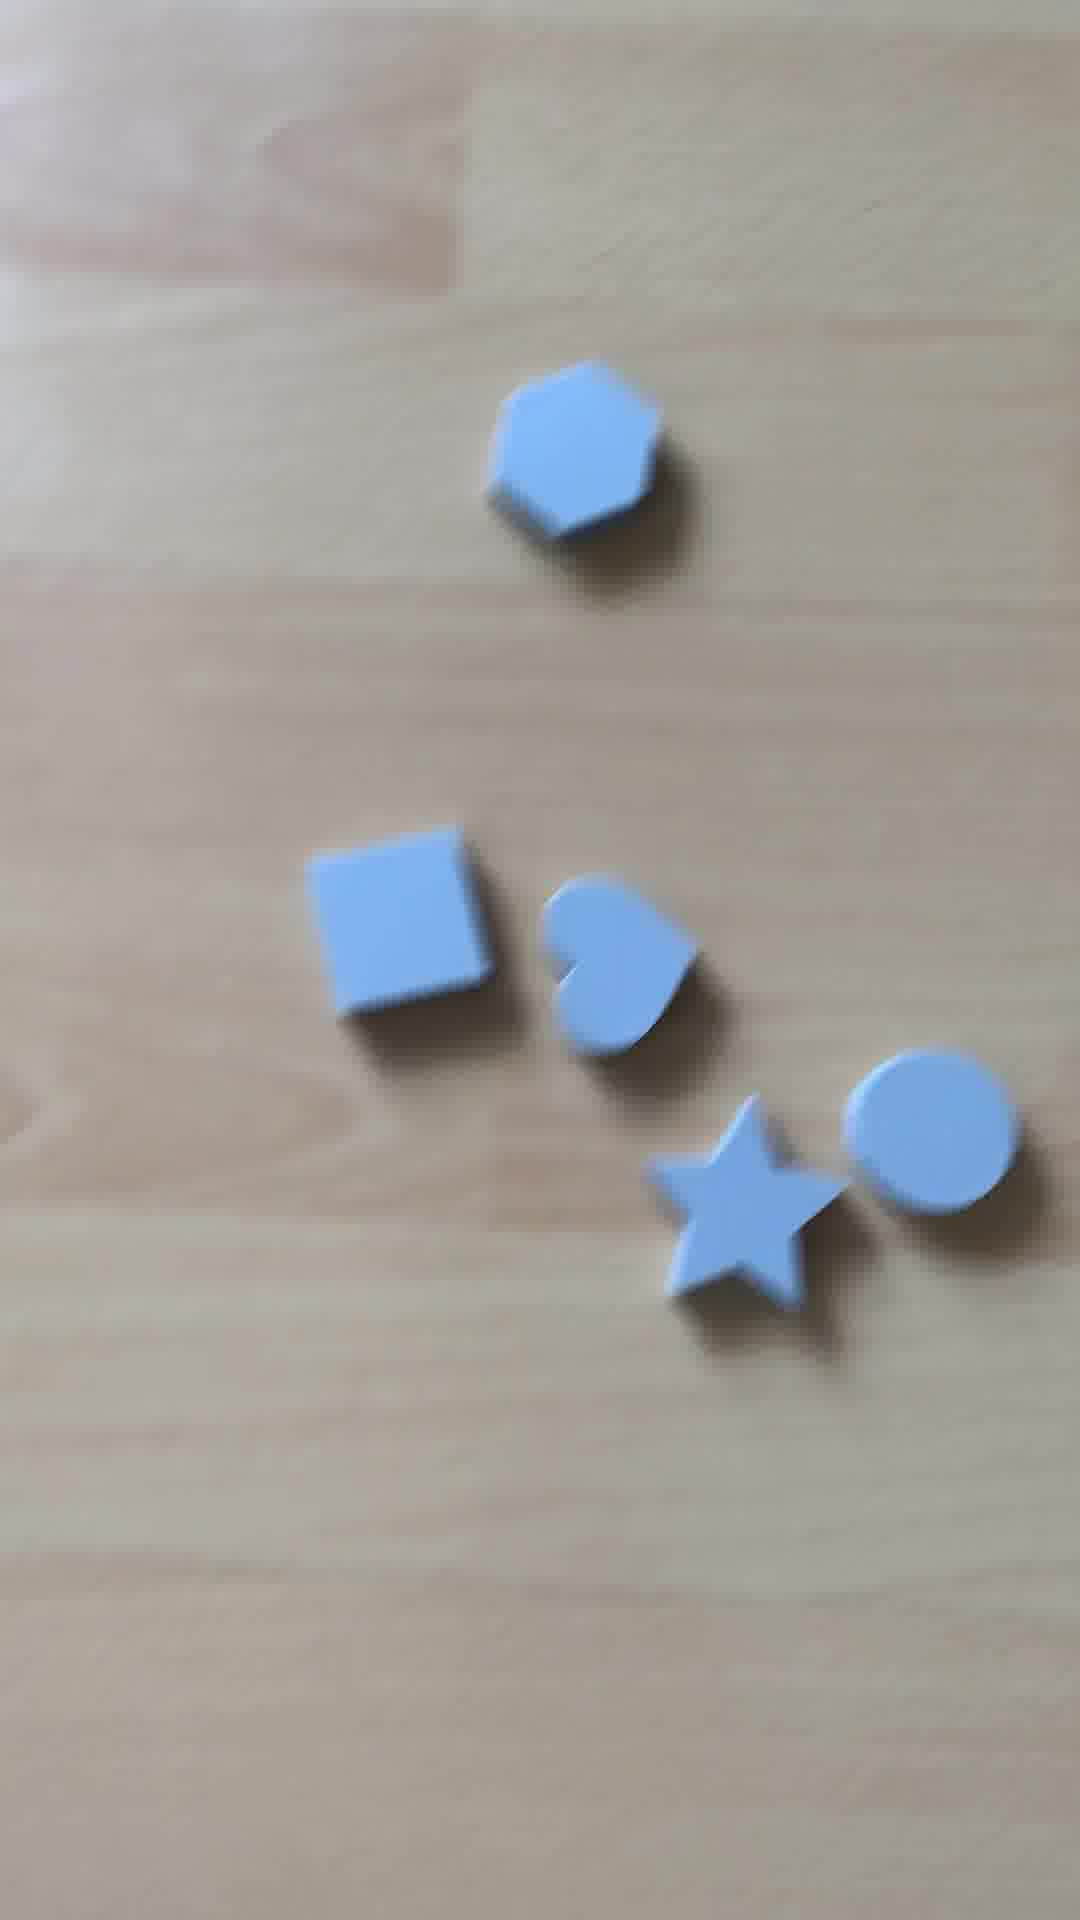Gray circle: (840, 1046, 1036, 1216)
Gray heart: (537, 885, 725, 1069)
Gray hexagon: (492, 377, 651, 556)
Gray square: (286, 833, 509, 1033)
Gray star: (637, 1101, 843, 1324)
